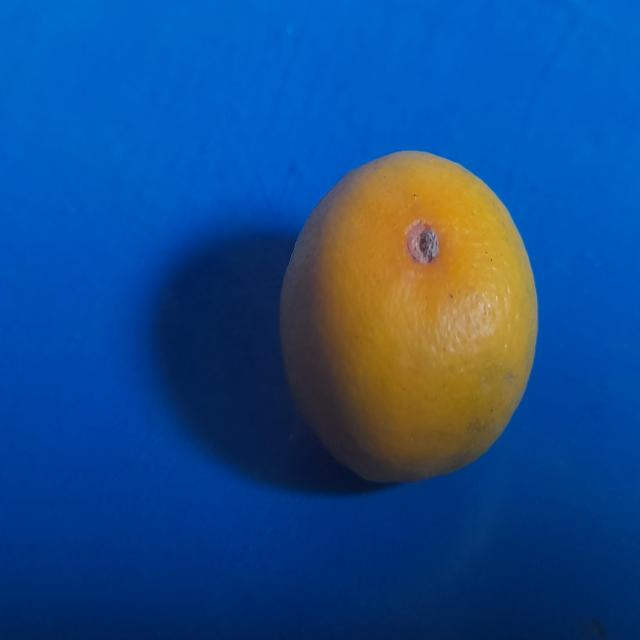greening: (276, 147, 543, 496)
